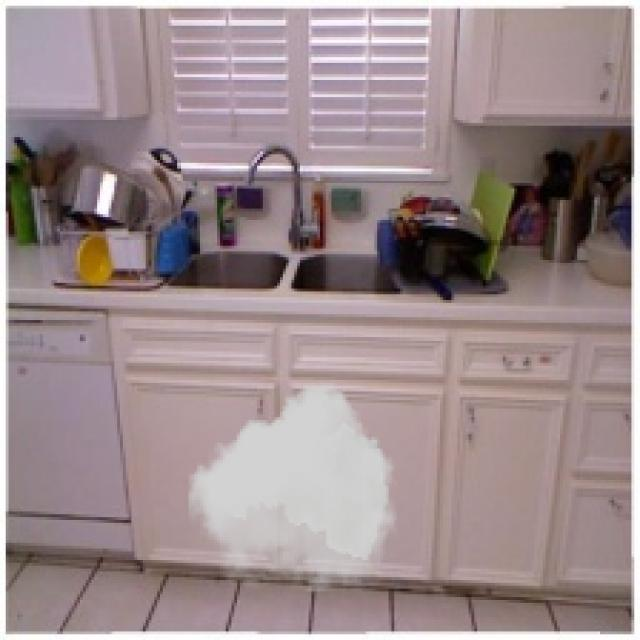Smoke: (188, 383, 398, 591)
